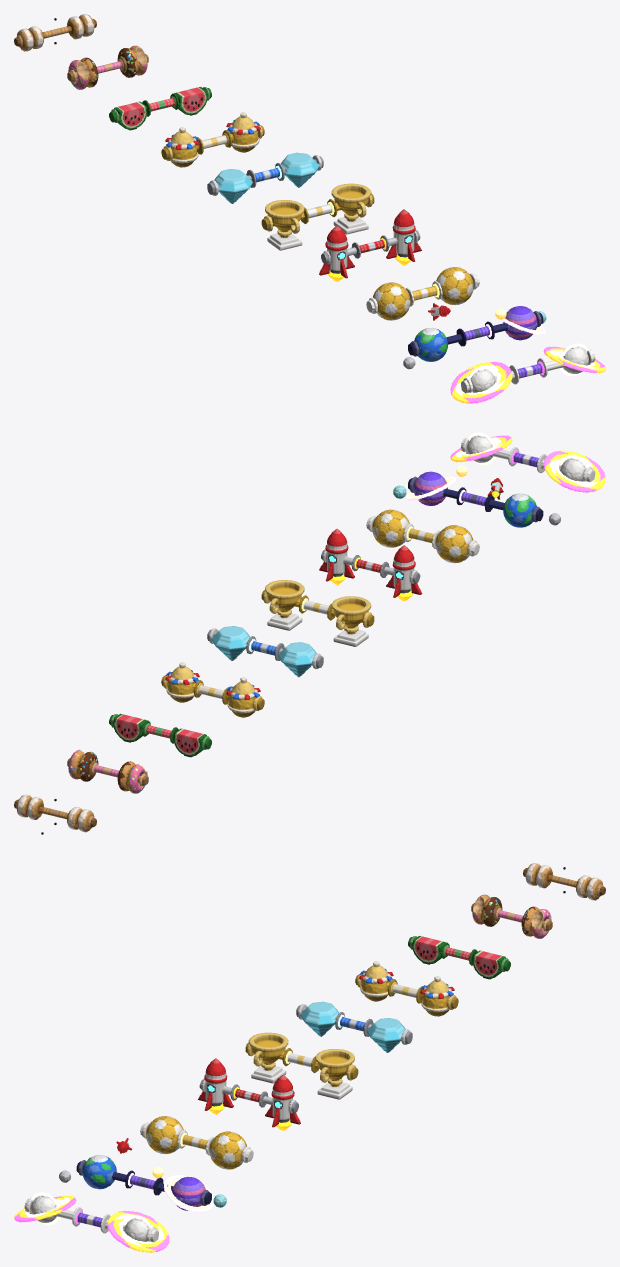
File: Weights.fbx
3 views of the same model, one above another, from view 1: azimuth 30°, elevation 25°; view 2: azimuth 150°, elevation 25°; view 3: azimuth 330°, elevation 25° (orthographic).
Visible parts, largest first — view 1: Weight6_Trophy_Vox__GoldHi, Weight7_Rocket_Vox__RocketRed, Weight6_Trophy_Vox__Gold, Weight5_Diamond_Vox__DiamondHi, Weight10_BlackHole_Globe__Void, Weight8_SoccerBall_BallN__Gold, Weight8_SoccerBall_BallP__Gold, Weight3_Watermelon_Vox__Flesh, Weight7_Rocket_Vox__RocketBody, Weight4_GoldenEgg_Vox__GoldHi, Weight10_BlackHole_DiscN__Disc, Weight4_GoldenEgg_Vox__Gold (+5 smaller); view 2: Weight6_Trophy_Vox__GoldHi, Weight7_Rocket_Vox__RocketRed, Weight6_Trophy_Vox__Gold, Weight5_Diamond_Vox__DiamondHi, Weight10_BlackHole_Globe__Void, Weight8_SoccerBall_BallN__Gold, Weight8_SoccerBall_BallP__Gold, Weight3_Watermelon_Vox__Flesh, Weight4_GoldenEgg_Vox__GoldHi, Weight7_Rocket_Vox__RocketBody, Weight10_BlackHole_DiscN__Disc, Weight4_GoldenEgg_Vox__Gold (+6 smaller); view 3: Weight6_Trophy_Vox__GoldHi, Weight7_Rocket_Vox__RocketRed, Weight6_Trophy_Vox__Gold, Weight5_Diamond_Vox__DiamondHi, Weight10_BlackHole_Globe__Void, Weight8_SoccerBall_BallP__Gold, Weight8_SoccerBall_BallN__Gold, Weight3_Watermelon_Vox__Flesh, Weight7_Rocket_Vox__RocketBody, Weight4_GoldenEgg_Vox__GoldHi, Weight10_BlackHole_DiscP__Disc, Weight4_GoldenEgg_Vox__Gold (+6 smaller).
Boxes of the visible parts, bbox=[...] form: Weight6_Trophy_Vox__GoldHi: bbox=[264, 183, 372, 236]; Weight7_Rocket_Vox__RocketRed: bbox=[319, 212, 421, 275]; Weight6_Trophy_Vox__Gold: bbox=[267, 188, 368, 231]; Weight5_Diamond_Vox__DiamondHi: bbox=[215, 152, 319, 191]; Weight10_BlackHole_Globe__Void: bbox=[469, 346, 588, 392]; Weight8_SoccerBall_BallN__Gold: bbox=[373, 282, 410, 320]; Weight8_SoccerBall_BallP__Gold: bbox=[436, 267, 473, 304]; Weight3_Watermelon_Vox__Flesh: bbox=[118, 87, 204, 126]; Weight7_Rocket_Vox__RocketBody: bbox=[326, 223, 414, 268]; Weight4_GoldenEgg_Vox__GoldHi: bbox=[163, 116, 262, 160]; Weight10_BlackHole_DiscN__Disc: bbox=[452, 362, 512, 403]; Weight4_GoldenEgg_Vox__Gold: bbox=[170, 130, 258, 159]; Weight6_Trophy_Vox__GoldHi: bbox=[263, 580, 372, 632]; Weight7_Rocket_Vox__RocketRed: bbox=[319, 532, 421, 595]; Weight6_Trophy_Vox__Gold: bbox=[267, 584, 368, 627]; Weight5_Diamond_Vox__DiamondHi: bbox=[211, 626, 315, 664]; Weight10_BlackHole_Globe__Void: bbox=[467, 435, 585, 481]; Weight8_SoccerBall_BallN__Gold: bbox=[435, 525, 472, 562]; Weight8_SoccerBall_BallP__Gold: bbox=[372, 509, 409, 547]; Weight3_Watermelon_Vox__Flesh: bbox=[116, 714, 202, 753]; Weight4_GoldenEgg_Vox__GoldHi: bbox=[163, 666, 262, 710]; Weight7_Rocket_Vox__RocketBody: bbox=[326, 543, 414, 587]; Weight10_BlackHole_DiscN__Disc: bbox=[545, 450, 605, 490]; Weight4_GoldenEgg_Vox__Gold: bbox=[167, 680, 255, 710]; Weight6_Trophy_Vox__GoldHi: bbox=[247, 1032, 355, 1085]; Weight7_Rocket_Vox__RocketRed: bbox=[198, 1061, 300, 1124]; Weight6_Trophy_Vox__Gold: bbox=[251, 1037, 352, 1080]; Weight5_Diamond_Vox__DiamondHi: bbox=[300, 1001, 404, 1040]; Weight10_BlackHole_Globe__Void: bbox=[31, 1195, 150, 1241]; Weight8_SoccerBall_BallP__Gold: bbox=[209, 1131, 246, 1169]; Weight8_SoccerBall_BallN__Gold: bbox=[146, 1116, 183, 1153]; Weight3_Watermelon_Vox__Flesh: bbox=[415, 936, 501, 975]; Weight7_Rocket_Vox__RocketBody: bbox=[205, 1072, 293, 1117]; Weight4_GoldenEgg_Vox__GoldHi: bbox=[357, 965, 456, 1009]; Weight10_BlackHole_DiscP__Disc: bbox=[107, 1212, 168, 1252]; Weight4_GoldenEgg_Vox__Gold: bbox=[361, 979, 449, 1008].
Size of the model in its own units: 2020 by 718 by 11472.
